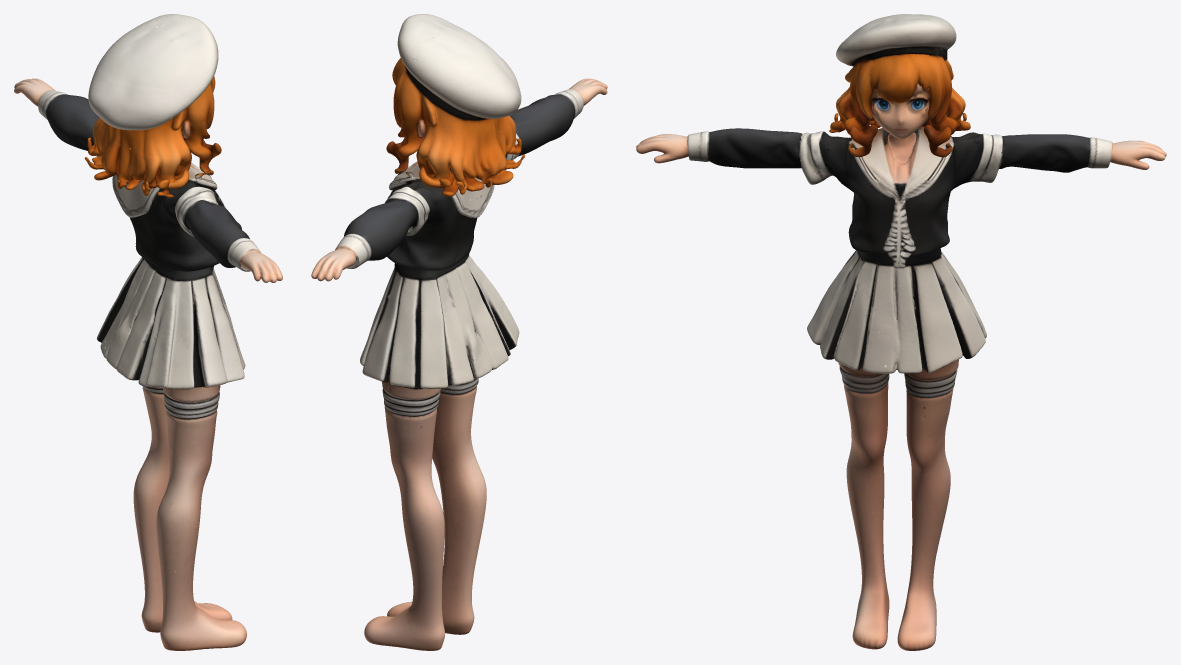
Rendered from tripo-raw.glb.
The picture shows the model from 3 angles, left to right: view 1: azimuth 30°, elevation 25°; view 2: azimuth 150°, elevation 25°; view 3: azimuth 270°, elevation 25°; orthographic projection.
Visible parts, largest first — view 1: tripo_node_cce21a2a-281d-4021-99b0-ef89cd25d083; view 2: tripo_node_cce21a2a-281d-4021-99b0-ef89cd25d083; view 3: tripo_node_cce21a2a-281d-4021-99b0-ef89cd25d083.
Part boxes in pixels (bbox=[...]): tripo_node_cce21a2a-281d-4021-99b0-ef89cd25d083: bbox=[14, 14, 282, 650]; tripo_node_cce21a2a-281d-4021-99b0-ef89cd25d083: bbox=[311, 14, 607, 650]; tripo_node_cce21a2a-281d-4021-99b0-ef89cd25d083: bbox=[636, 14, 1166, 650].
Bounding box in the file's own units: 0.2406 × 1 × 0.788.
1 material, 1 textured.
